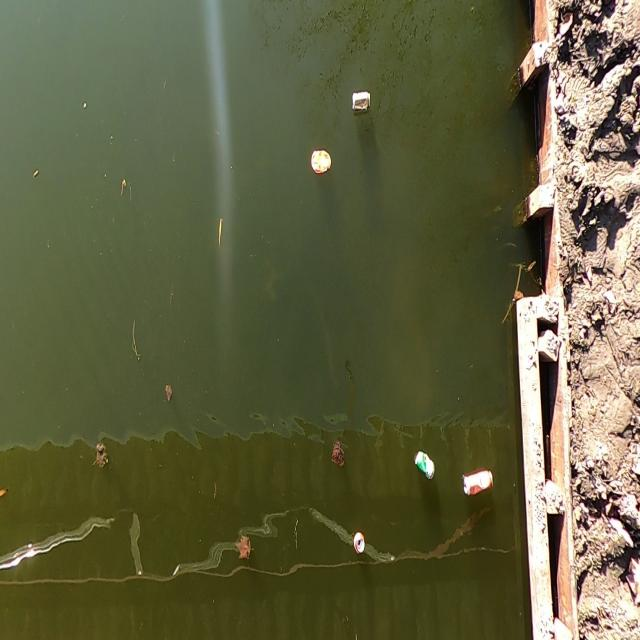Non plastique: (461, 464, 496, 506), (304, 142, 338, 183), (412, 445, 440, 488), (349, 83, 375, 120), (348, 528, 370, 560)
